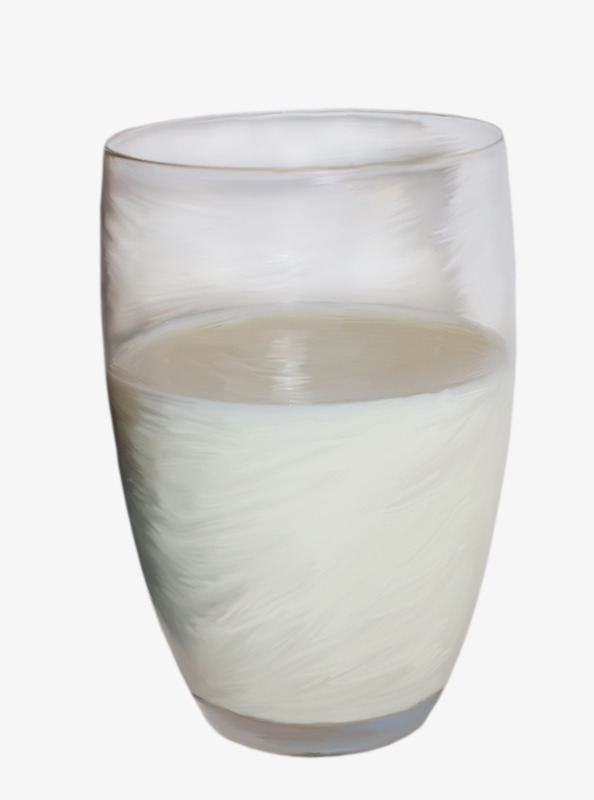glass of milk: (143, 148, 442, 732)
